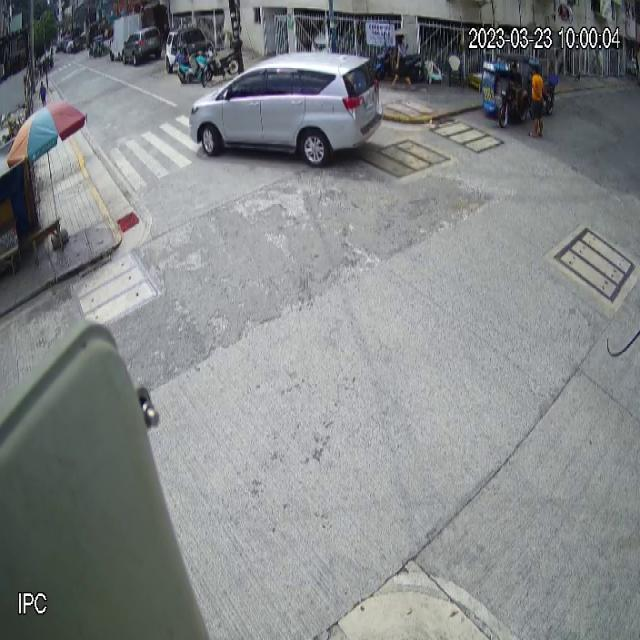Car: (188, 52, 384, 167)
Tricycle: (479, 50, 528, 127)
